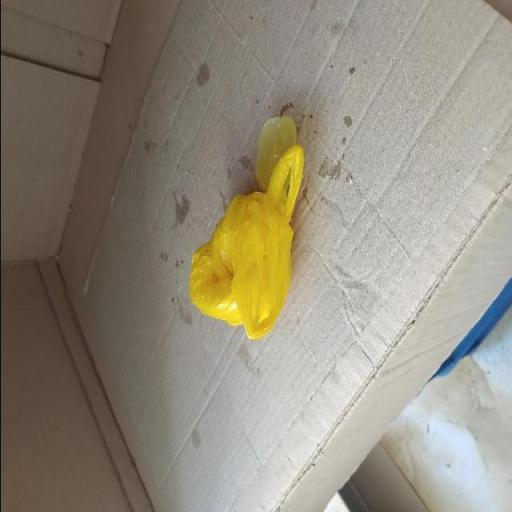plastic-bag: (184, 112, 315, 344)
